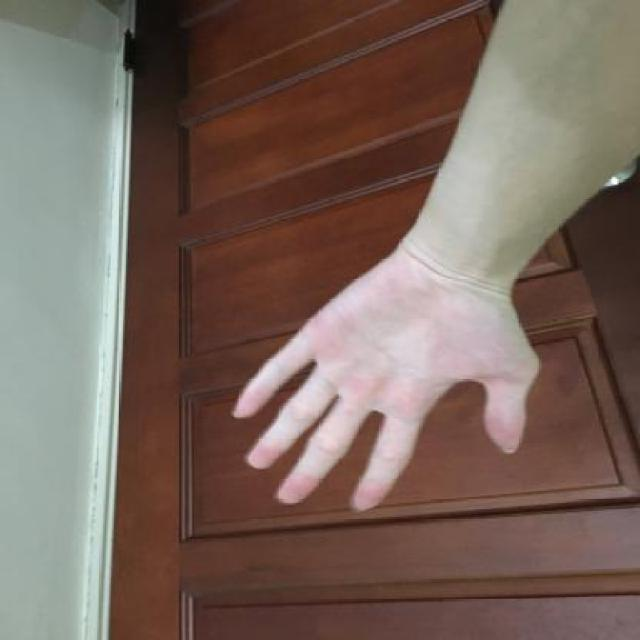bare_hand: (225, 231, 552, 524)
